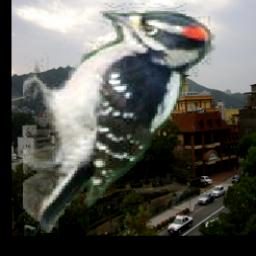Woodpecker: (22, 4, 214, 234)
